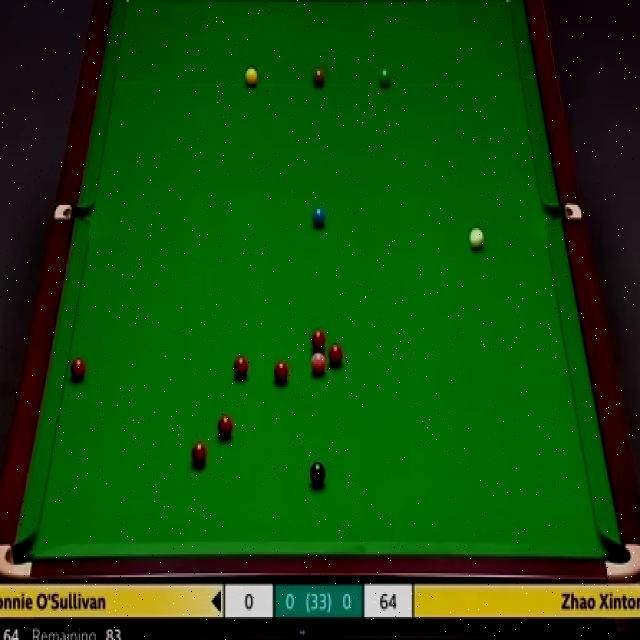black-ball: (310, 462, 327, 486)
blue-ball: (311, 205, 326, 228)
brown-ball: (312, 68, 326, 87)
green-ball: (378, 67, 392, 89)
pink-ball: (310, 352, 328, 377)
red-ball: (189, 442, 210, 469), (216, 413, 234, 439), (272, 360, 290, 384), (328, 343, 343, 368), (70, 358, 87, 380), (234, 355, 248, 380), (311, 328, 326, 351)
white-ball: (469, 222, 487, 248)
yellow-ball: (244, 65, 258, 87)
